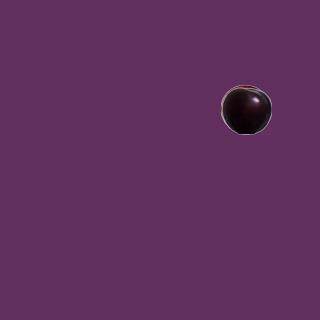Apple Braeburn: (220, 84, 270, 134)
Cherry Wax Black: (221, 85, 271, 135)
